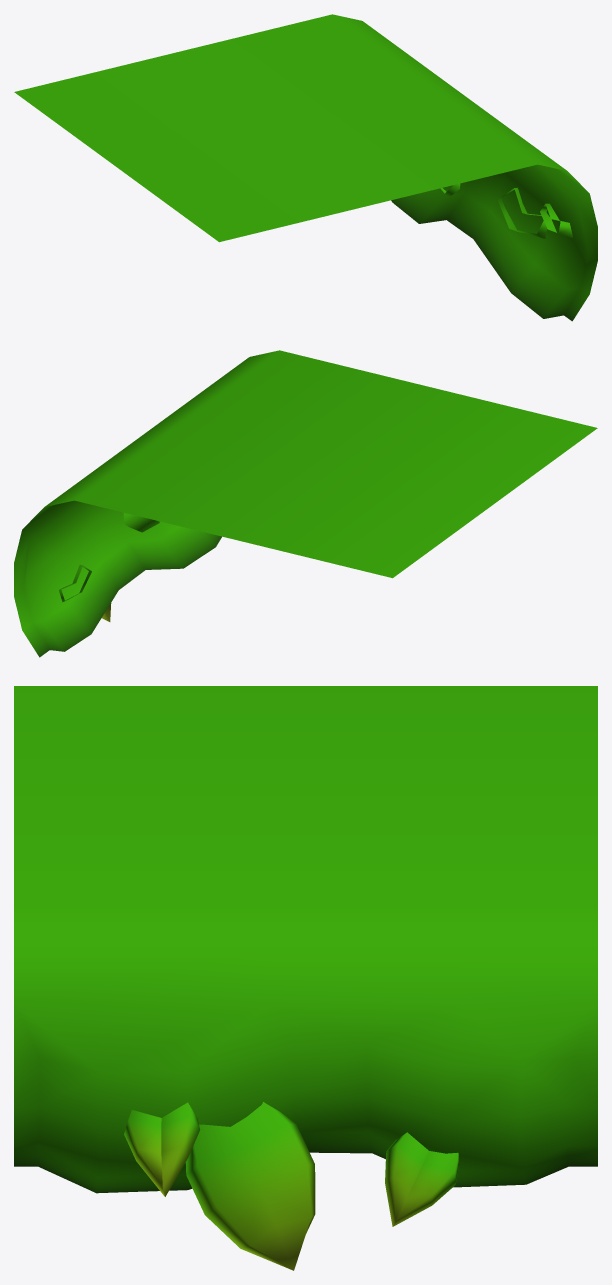
The model's file is Surface_SideUp00.fbx.
3 renders of one model, top to bottom at view 1: azimuth 30°, elevation 25°; view 2: azimuth 150°, elevation 25°; view 3: azimuth 270°, elevation 25°, orthographic. The views are drawn at different scales.
Parts seen in each view (by area): view 1: Surface_SideUp00; view 2: Surface_SideUp00; view 3: Surface_SideUp00.
Boxes of the visible parts, x1=… form: Surface_SideUp00: x1=14, y1=14, x2=597, y2=321; Surface_SideUp00: x1=14, y1=350, x2=597, y2=657; Surface_SideUp00: x1=14, y1=686, x2=597, y2=1270.
Bounding box in the file's own units: 2413 × 1176 × 2000.
